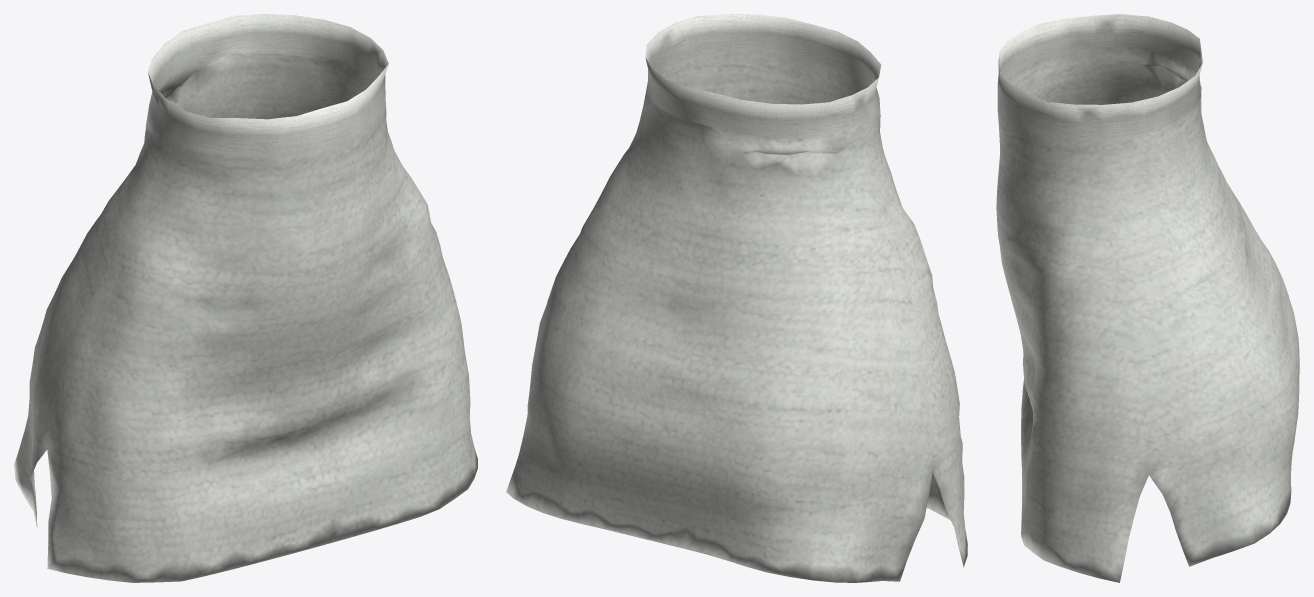
The model's file is Skirt.dae.
3 renders of one model, left to right at view 1: azimuth 30°, elevation 25°; view 2: azimuth 150°, elevation 25°; view 3: azimuth 270°, elevation 25°, orthographic. The views are drawn at different scales.
Visible parts, largest first — view 1: prim0; view 2: prim0; view 3: prim0.
Part boxes in pixels (bbox=[...]): prim0: bbox=[14, 14, 477, 582]; prim0: bbox=[506, 14, 967, 582]; prim0: bbox=[996, 14, 1299, 582].
Size of the model in its own units: 0.3927 by 0.2534 by 0.4067.
2 materials, 2 textured.
